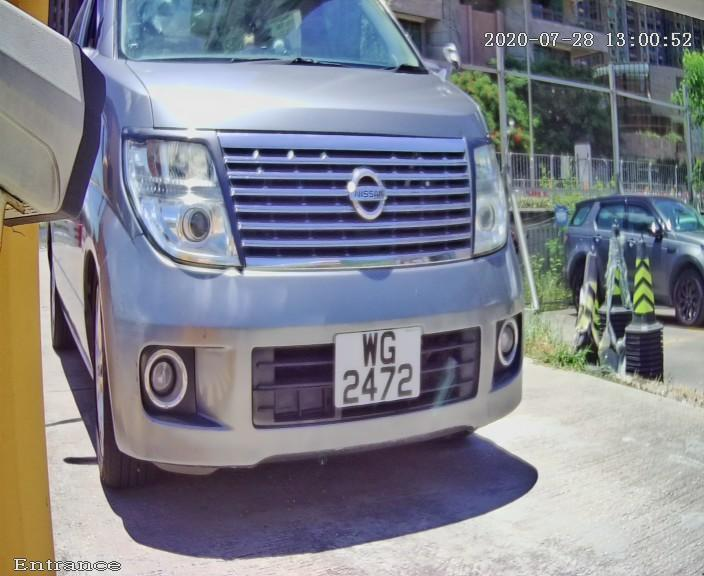privatecar: (10, 3, 607, 559)
